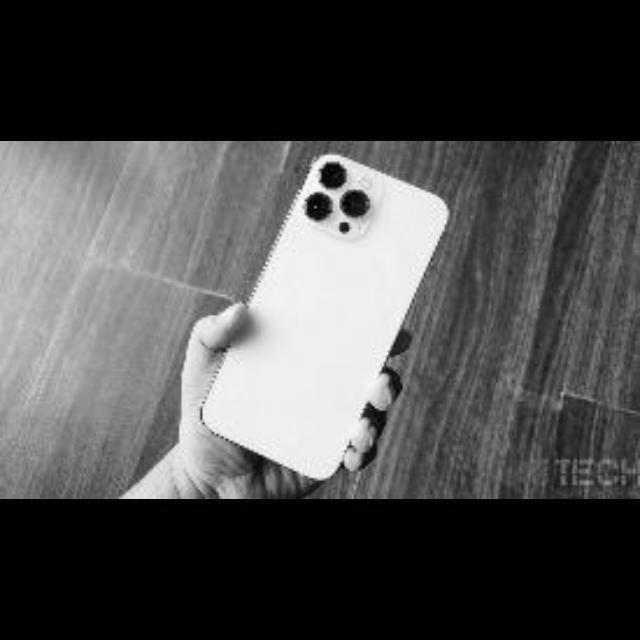fake: (162, 133, 478, 502)
